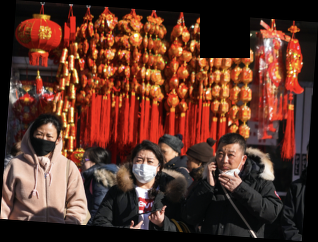mask_weared_incorrect: (215, 146, 242, 178)
with_mask: (30, 127, 57, 156), (133, 156, 159, 184)
without_mask: (186, 156, 200, 173), (81, 156, 94, 173)
